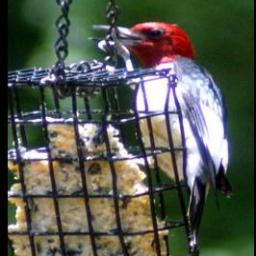Woodpecker: (85, 19, 234, 256)
